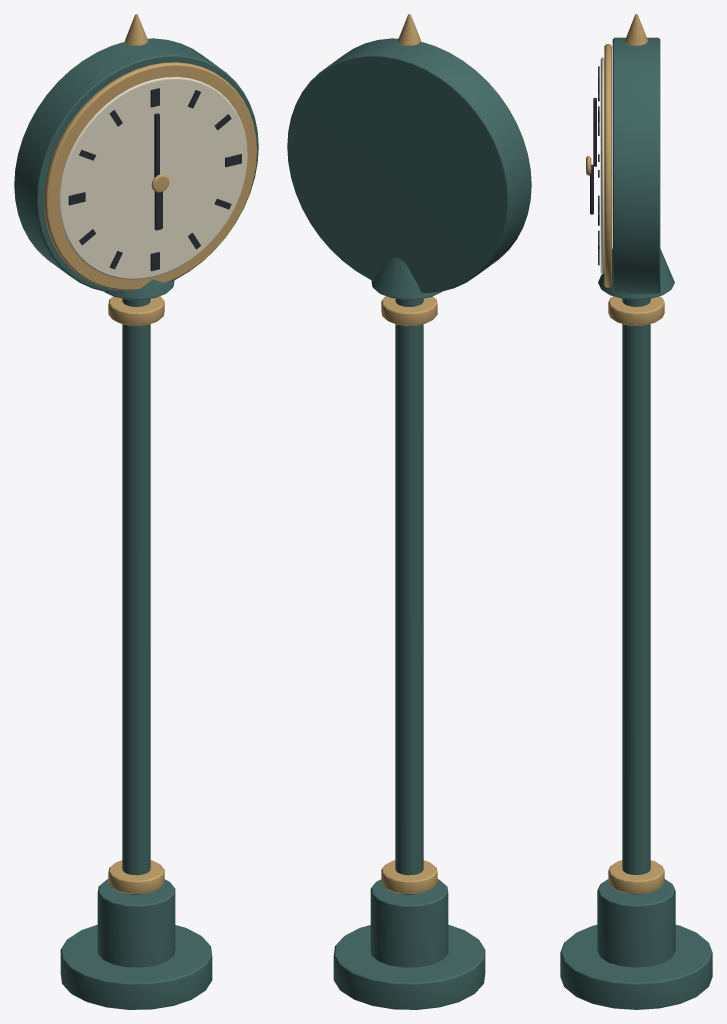
Rendered from station_clock.glb.
3 views of the same model, side by side, from view 1: azimuth 30°, elevation 25°; view 2: azimuth 150°, elevation 25°; view 3: azimuth 270°, elevation 25° (orthographic).
Visible parts, largest first — view 1: station_clock; view 2: station_clock; view 3: station_clock.
Boxes of the visible parts, x1=… form: station_clock: x1=14, y1=14, x2=258, y2=1009; station_clock: x1=287, y1=14, x2=531, y2=1009; station_clock: x1=560, y1=14, x2=712, y2=1009.
Size of the model in its own units: 1.18 by 4.89 by 0.7.
